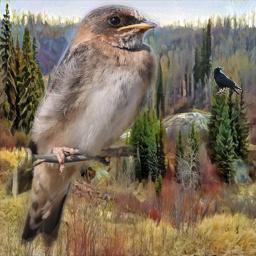Crow: (213, 66, 242, 95)
Swallow: (3, 1, 160, 248)
